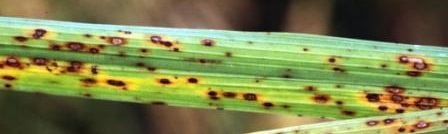Bercak Coklat: (414, 93, 440, 111), (4, 50, 23, 71), (64, 56, 82, 78), (181, 72, 202, 88), (196, 35, 218, 50), (104, 78, 129, 91), (28, 26, 48, 42), (187, 56, 216, 67), (310, 91, 332, 105), (143, 98, 173, 108), (363, 89, 383, 103), (385, 82, 406, 95), (30, 54, 49, 68), (221, 87, 240, 101), (411, 58, 430, 72), (331, 63, 349, 77), (65, 41, 84, 54), (77, 75, 99, 86), (300, 80, 318, 93), (108, 36, 129, 47), (241, 91, 260, 103), (298, 43, 313, 58), (395, 52, 409, 67), (153, 76, 172, 87), (12, 34, 31, 45), (87, 64, 103, 77), (337, 107, 357, 117), (157, 39, 175, 50), (221, 49, 237, 61), (148, 33, 163, 45), (138, 45, 152, 57), (80, 30, 94, 42), (258, 100, 276, 109), (404, 70, 422, 79), (87, 45, 99, 58), (378, 103, 391, 115), (395, 105, 407, 118), (47, 42, 62, 52), (375, 60, 390, 70), (144, 64, 158, 74), (132, 60, 146, 70), (325, 55, 339, 65), (1, 82, 18, 90), (169, 45, 181, 56), (332, 98, 345, 108), (204, 88, 220, 96), (114, 52, 128, 61), (115, 27, 133, 34), (1, 75, 19, 82), (50, 59, 61, 70), (209, 95, 222, 104), (96, 43, 107, 52), (96, 34, 107, 42)
